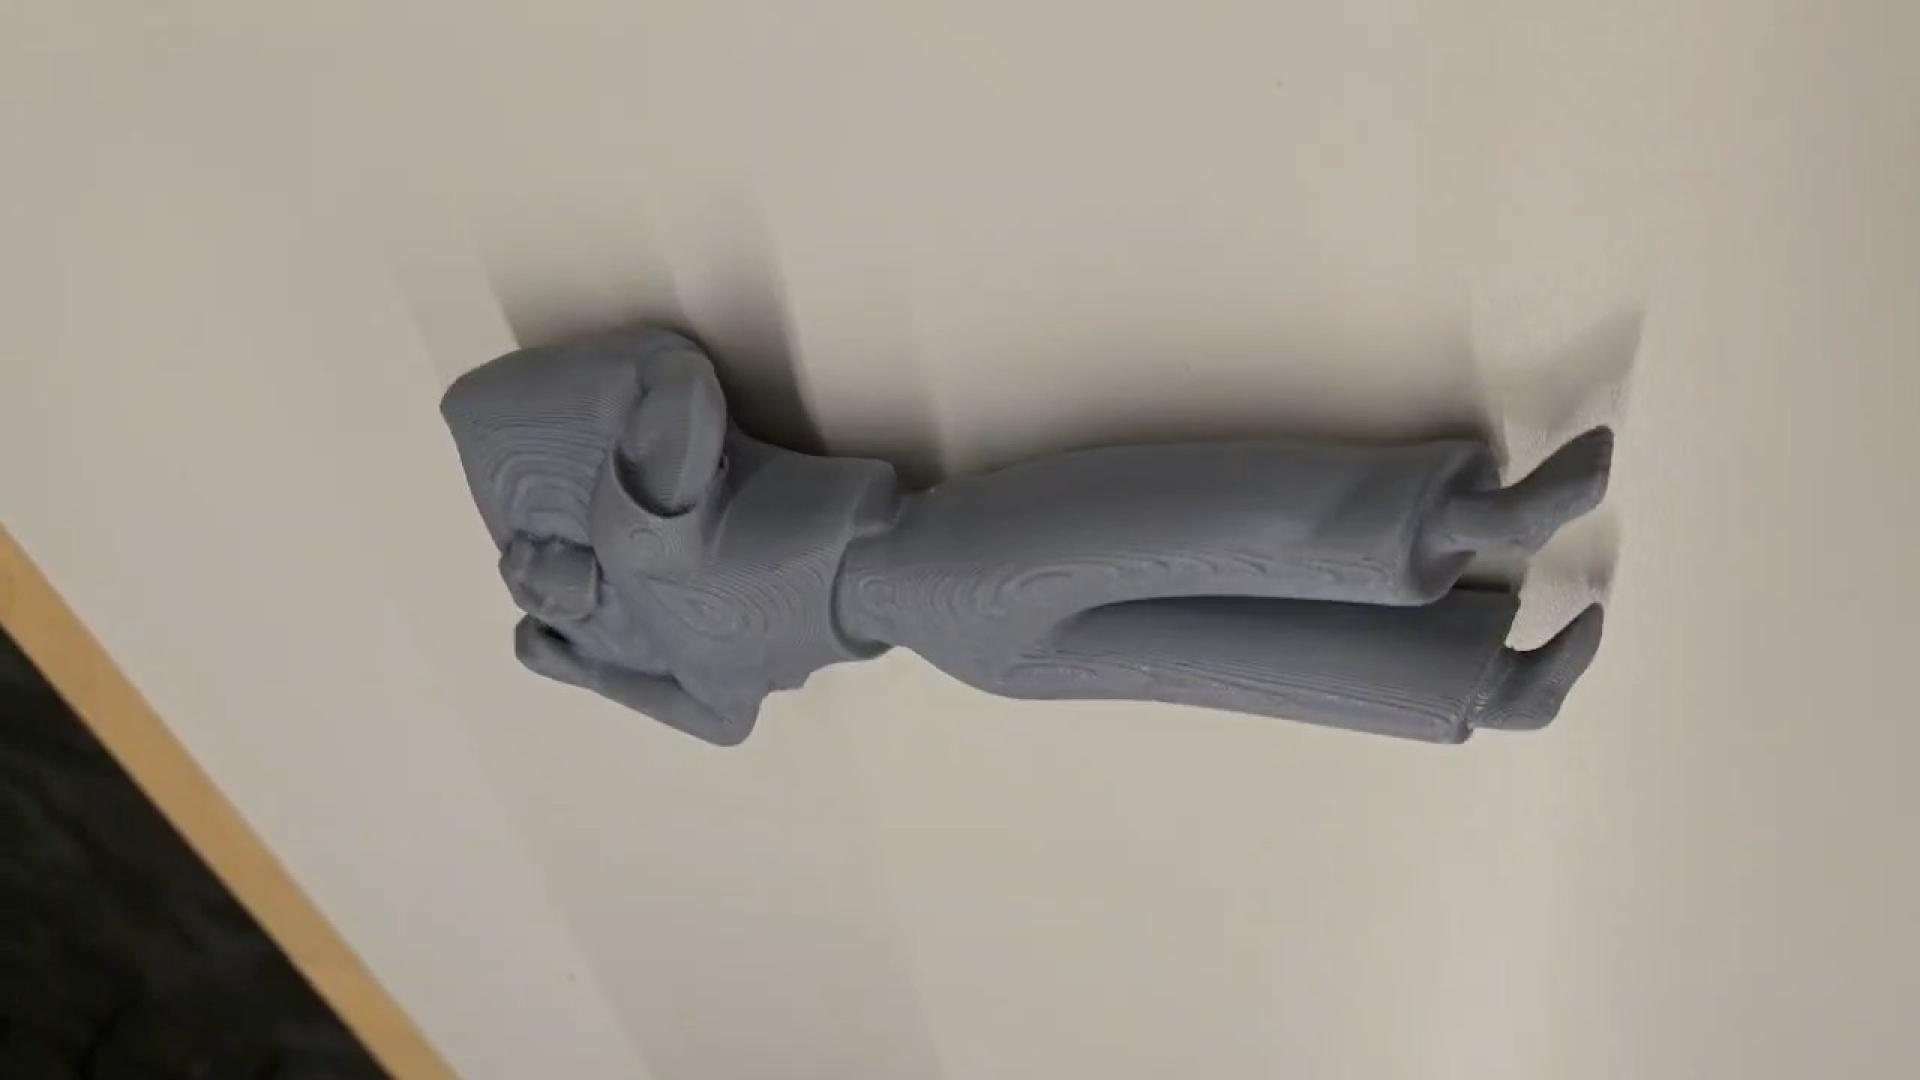Bad-style: (455, 319, 1622, 750)
